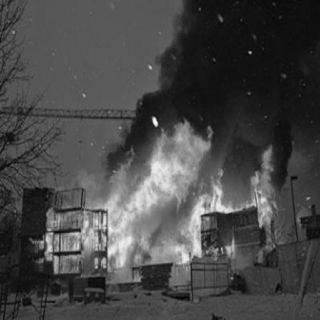Fire: (45, 107, 282, 293)
Smoke: (160, 10, 314, 132)
